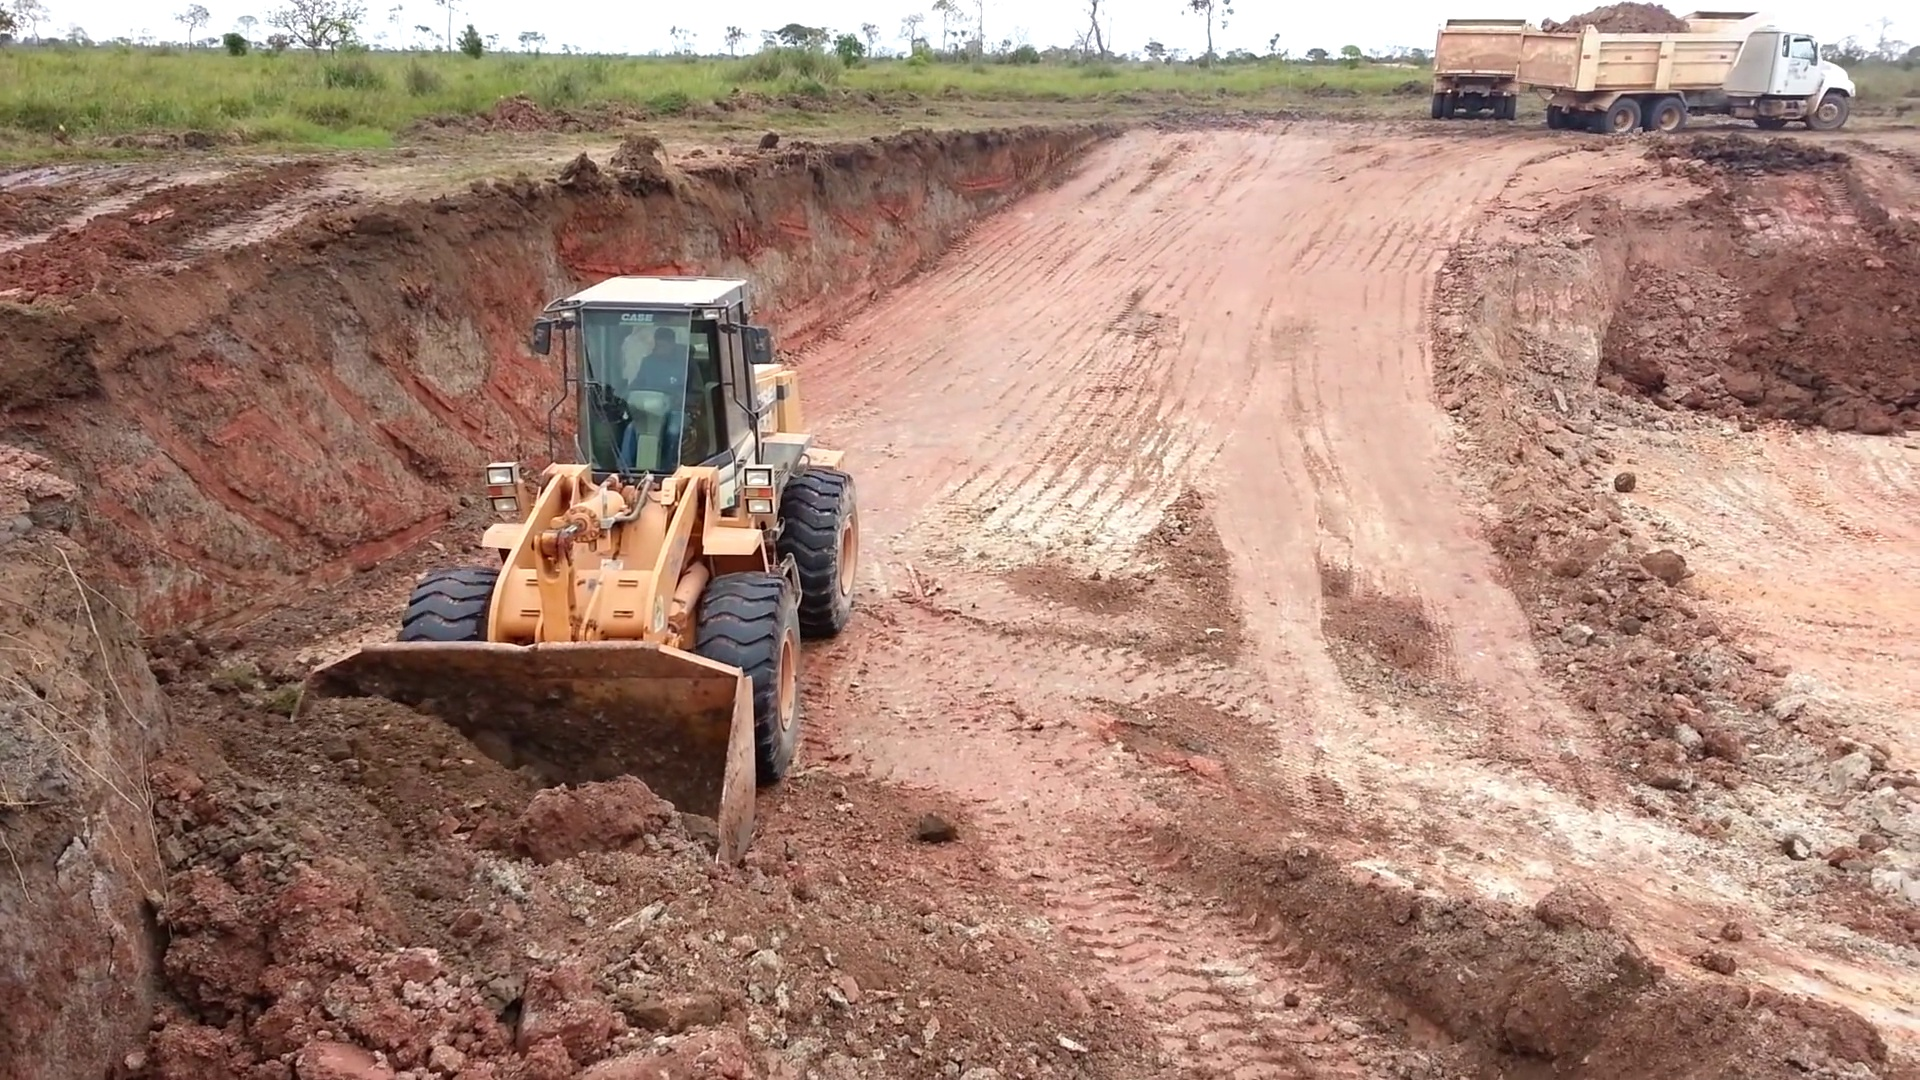truck: (1520, 8, 1862, 129), (1428, 15, 1524, 115)
wheel loader: (297, 270, 856, 891)
